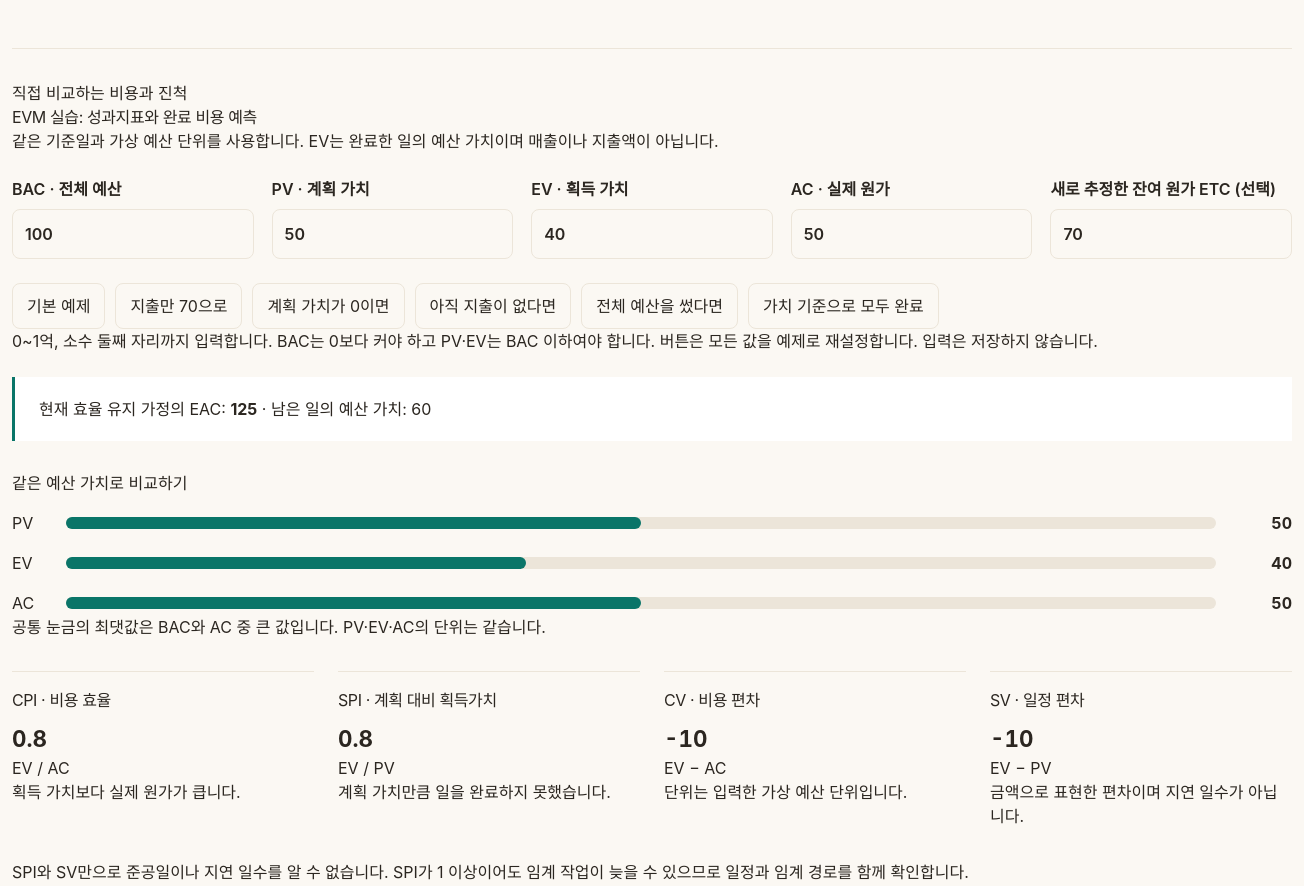
changes only the explicitly supplied forecast and resets presets without storage writes
expect the message shows "125": met, box [230,399,257,419]
Step 1. Replace the text in the number field labelled "새로 추정한 잔여 원가 ETC (선택)" with "90" → (1171, 234), box [1050,209,1292,259]
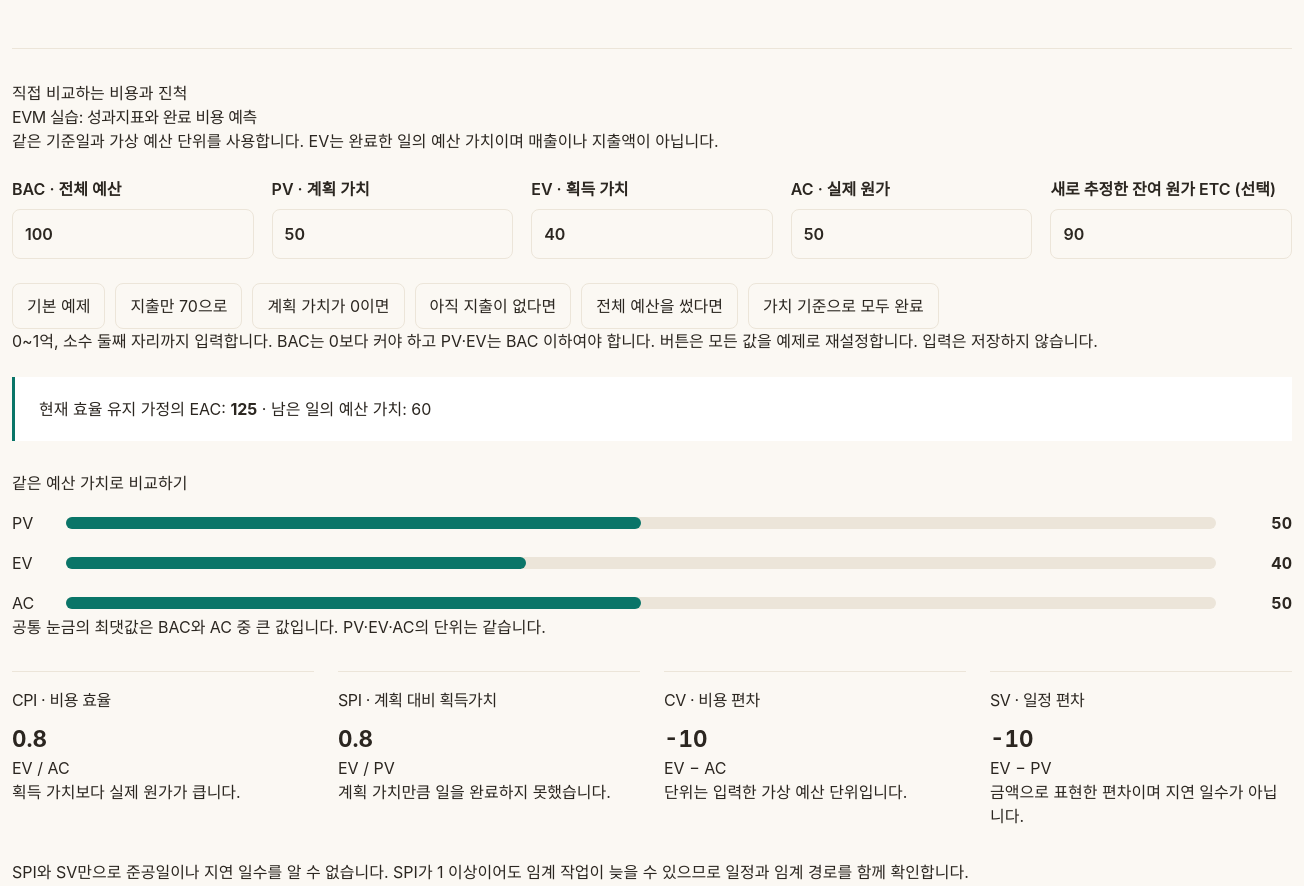
expect the message shows "125": met, box [230,399,257,419]
Step 2. Click the button "지출만 70으로" → (179, 306), box [115,283,242,329]
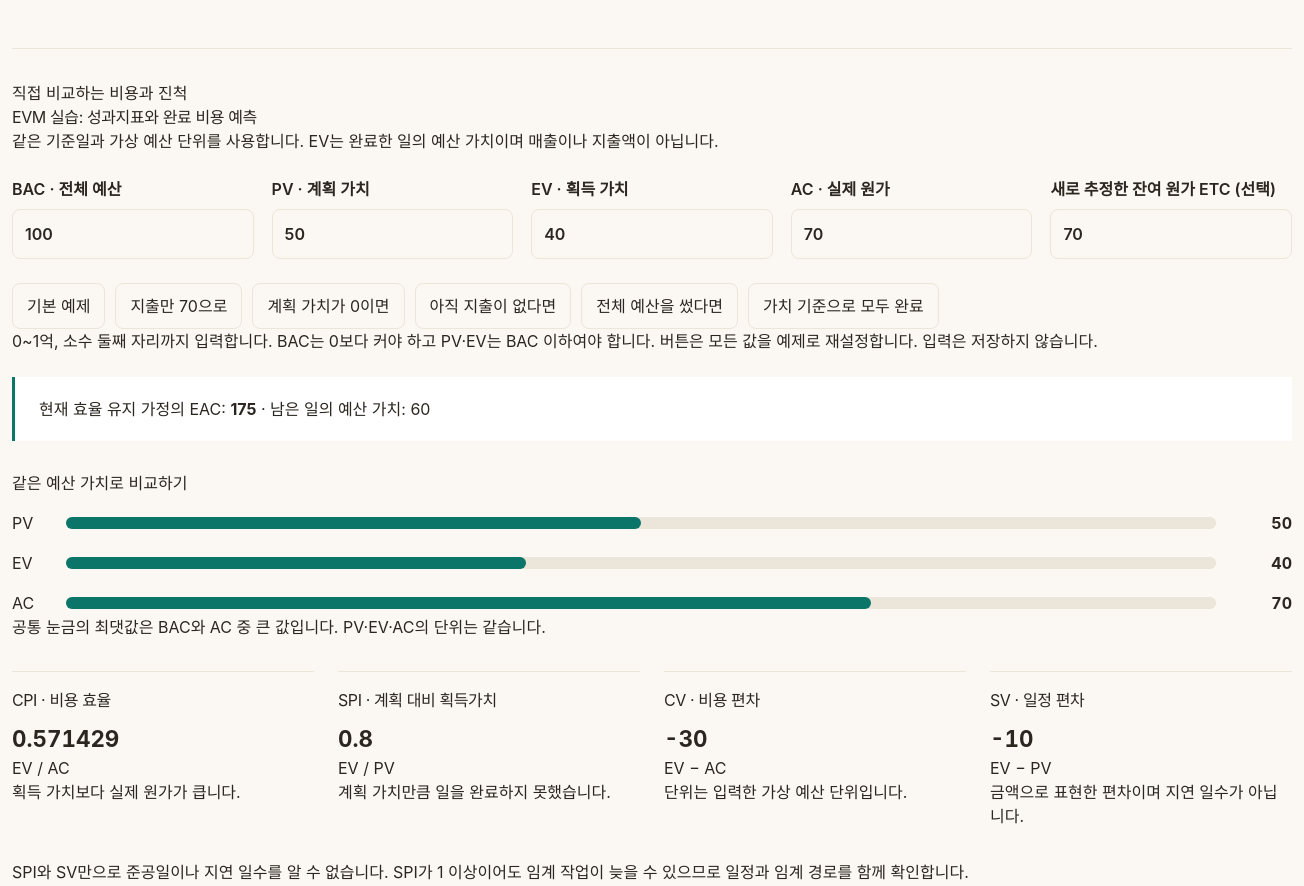
expect the number field labelled "새로 추정한 잔여 원가 ETC (선택)" holds "70": met, box [1050,209,1292,259]
expect the message shows "175": met, box [230,399,256,419]
